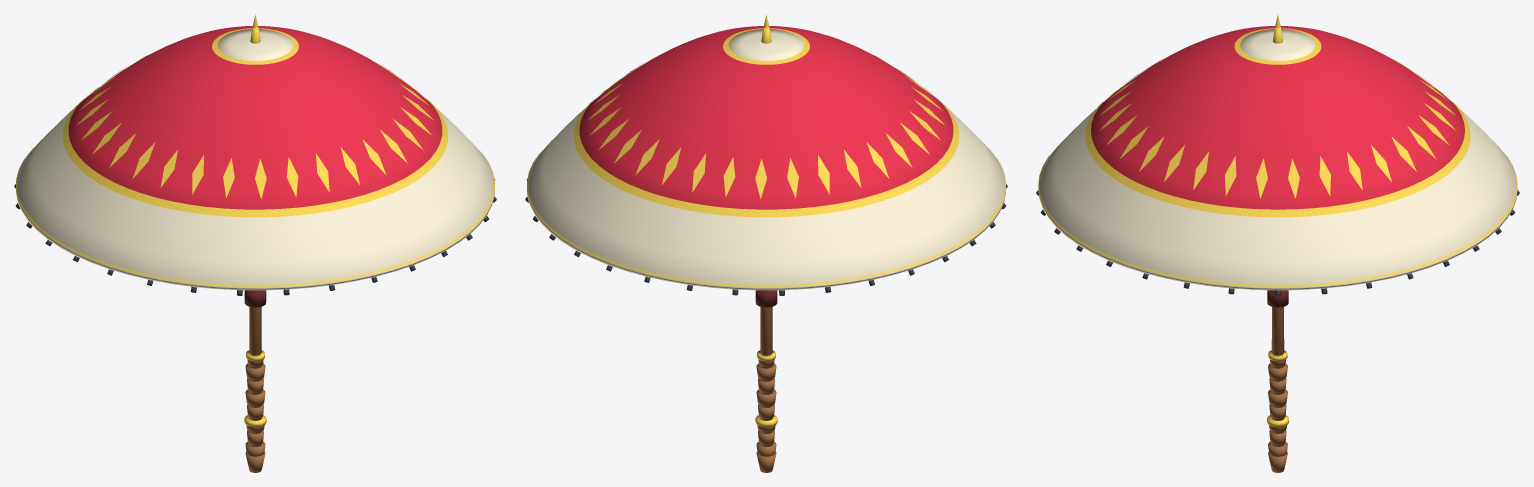
The model's file is craft_wagasa.glb.
3 renders of one model, left to right at view 1: azimuth 30°, elevation 25°; view 2: azimuth 150°, elevation 25°; view 3: azimuth 270°, elevation 25°, orthographic.
Visible parts, largest first — view 1: Canopy_Crimson_Paper, Canopy_Cream_Paper, Gold_Ornaments, Handle_Carved_Wood, Thread_Bindings, Gold_Tip_And_Bands; view 2: Canopy_Crimson_Paper, Canopy_Cream_Paper, Gold_Ornaments, Handle_Carved_Wood, Thread_Bindings, Gold_Tip_And_Bands; view 3: Canopy_Crimson_Paper, Canopy_Cream_Paper, Gold_Ornaments, Handle_Carved_Wood, Thread_Bindings, Gold_Tip_And_Bands.
Part boxes in pixels (x1,y1,x2,y2): Canopy_Crimson_Paper: [68, 26, 442, 209]; Canopy_Cream_Paper: [16, 29, 494, 290]; Gold_Ornaments: [16, 28, 494, 286]; Handle_Carved_Wood: [245, 307, 265, 472]; Thread_Bindings: [14, 178, 496, 295]; Gold_Tip_And_Bands: [244, 14, 266, 427]; Canopy_Crimson_Paper: [579, 26, 953, 209]; Canopy_Cream_Paper: [527, 29, 1005, 290]; Gold_Ornaments: [527, 28, 1005, 286]; Handle_Carved_Wood: [756, 307, 776, 472]; Thread_Bindings: [525, 178, 1007, 295]; Gold_Tip_And_Bands: [755, 14, 777, 427]; Canopy_Crimson_Paper: [1091, 26, 1464, 209]; Canopy_Cream_Paper: [1038, 29, 1517, 290]; Gold_Ornaments: [1038, 28, 1517, 286]; Handle_Carved_Wood: [1268, 307, 1287, 472]; Thread_Bindings: [1036, 190, 1519, 296]; Gold_Tip_And_Bands: [1267, 15, 1288, 426].
Size of the model in its own units: 1.87 by 1.95 by 1.87.
